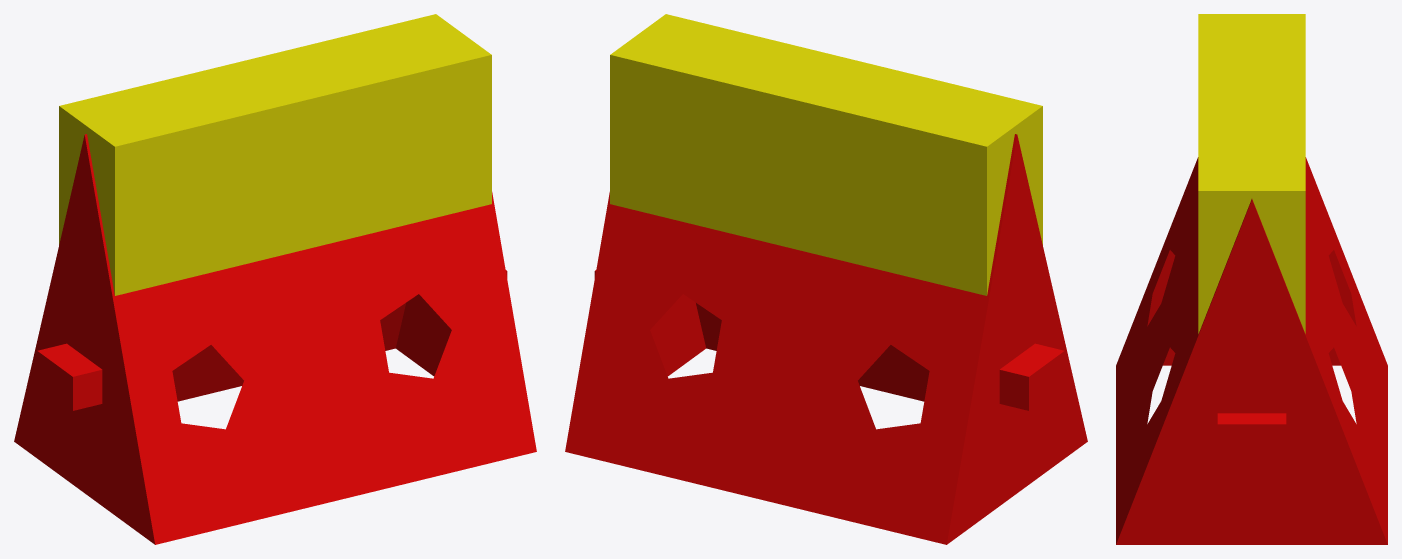
File: block.fbx
3 renders of one model, left to right at view 1: azimuth 30°, elevation 25°; view 2: azimuth 150°, elevation 25°; view 3: azimuth 270°, elevation 25°, orthographic. The views are drawn at different scales.
Visible parts, largest first — view 1: pCube3; view 2: pCube3; view 3: pCube3.
Part boxes in pixels (x1,y1,x2,y2): pCube3: (14,14,536,544); pCube3: (565,14,1087,544); pCube3: (1116,14,1387,544).
Bounding box in the file's own units: 1.36 × 1.09 × 0.7649.
